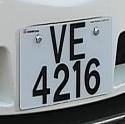1: (71, 60, 84, 99)
2: (51, 62, 72, 104)
4: (28, 64, 52, 108)
6: (83, 56, 101, 95)
E: (66, 20, 89, 63)
V: (45, 22, 68, 65)
